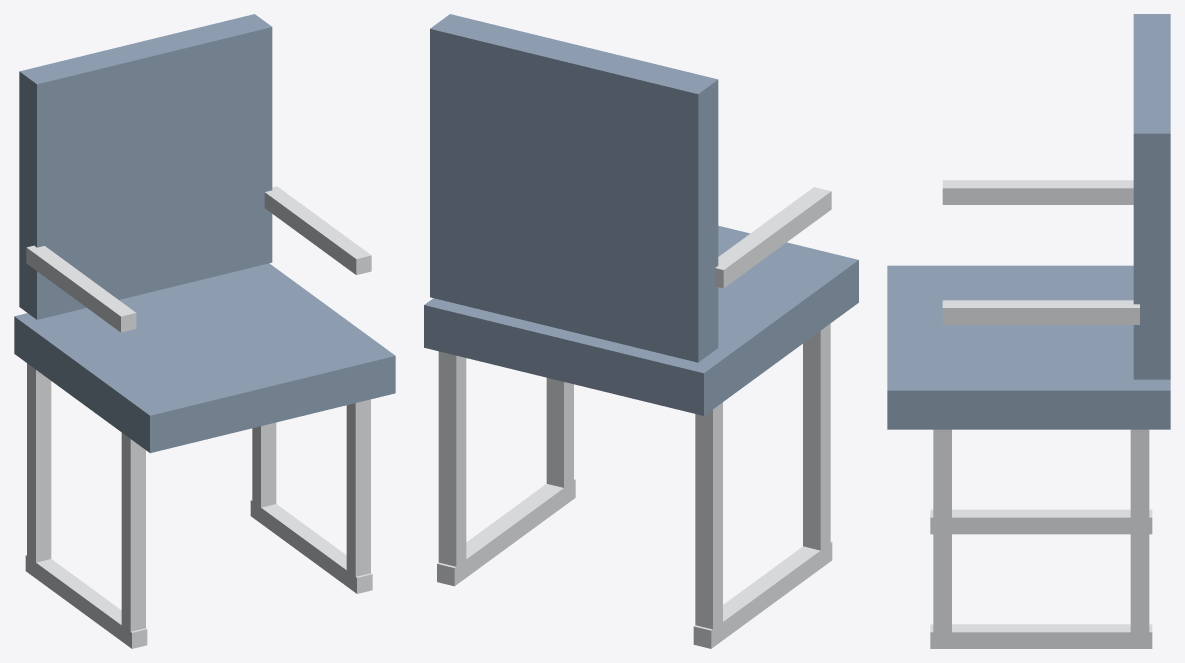
The model's file is VISITOR_CHAIR001.glb.
The picture shows the model from 3 angles, left to right: view 1: azimuth 30°, elevation 25°; view 2: azimuth 150°, elevation 25°; view 3: azimuth 270°, elevation 25°; orthographic projection. The views are drawn at different scales.
Parts seen in each view (by area): view 1: FurnitureRoot; view 2: FurnitureRoot; view 3: FurnitureRoot.
Part boxes in pixels (left/top/right/bottom): FurnitureRoot: left=14, top=14, right=395, bottom=648; FurnitureRoot: left=424, top=14, right=858, bottom=648; FurnitureRoot: left=887, top=14, right=1170, bottom=648.
Size of the model in its own units: 49 by 92 by 46.
